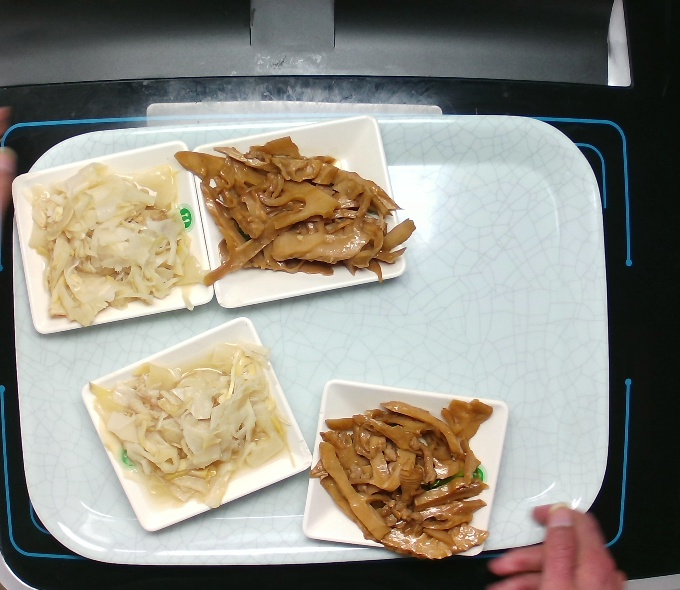wcq-LuSun: (94, 345, 282, 494), (31, 167, 202, 315)
wcq-SunGan: (177, 144, 414, 284), (314, 399, 492, 556)
